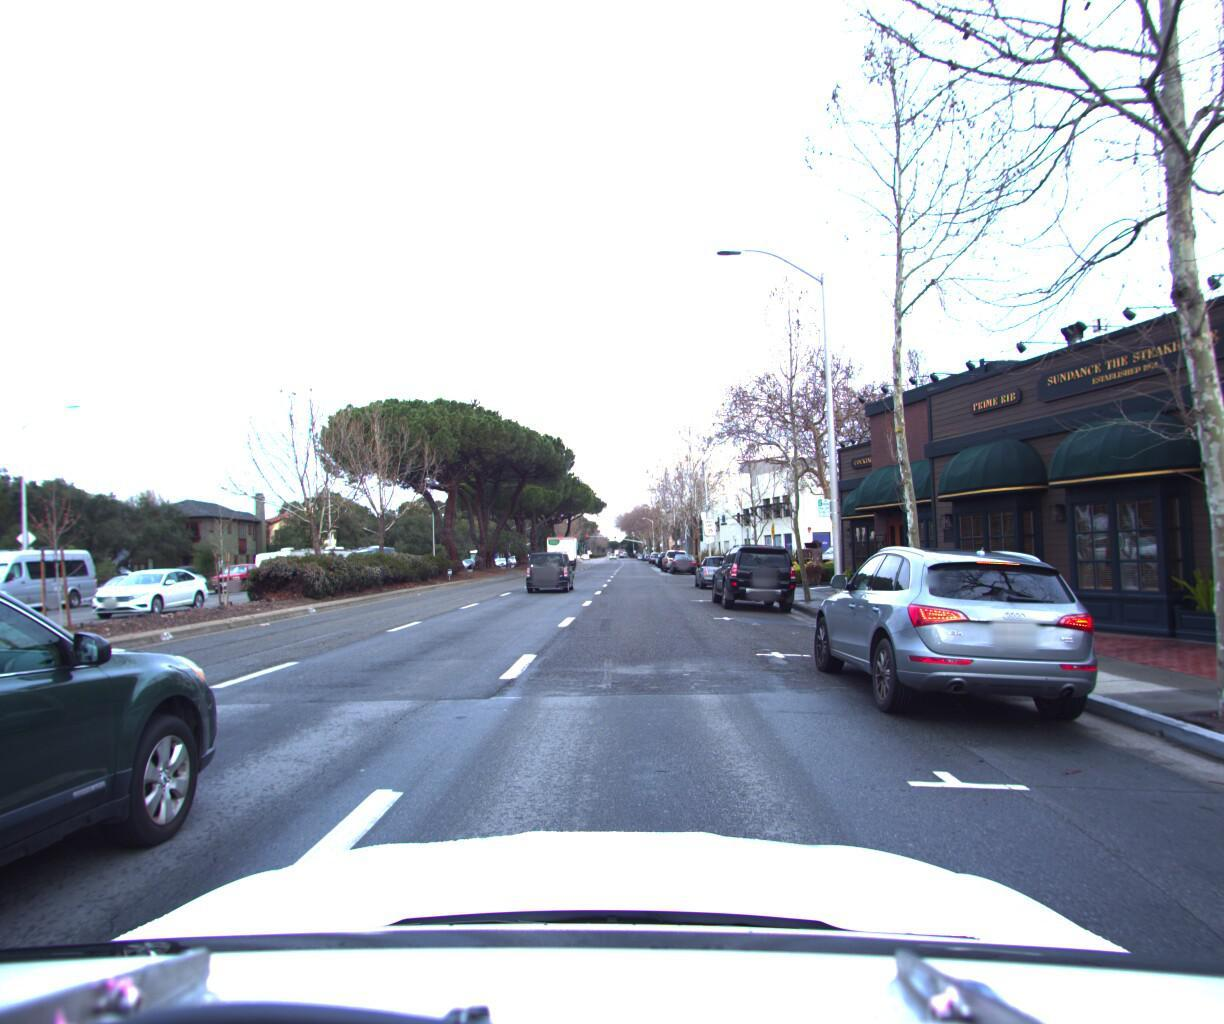car: (801, 529, 1129, 738), (708, 532, 806, 609), (86, 561, 219, 617), (518, 543, 577, 590), (209, 556, 278, 588), (694, 545, 743, 584), (661, 541, 691, 566), (668, 545, 700, 568)
other_vehicle: (252, 539, 332, 584), (297, 539, 360, 578), (347, 538, 403, 573)
truck: (546, 529, 580, 565)
